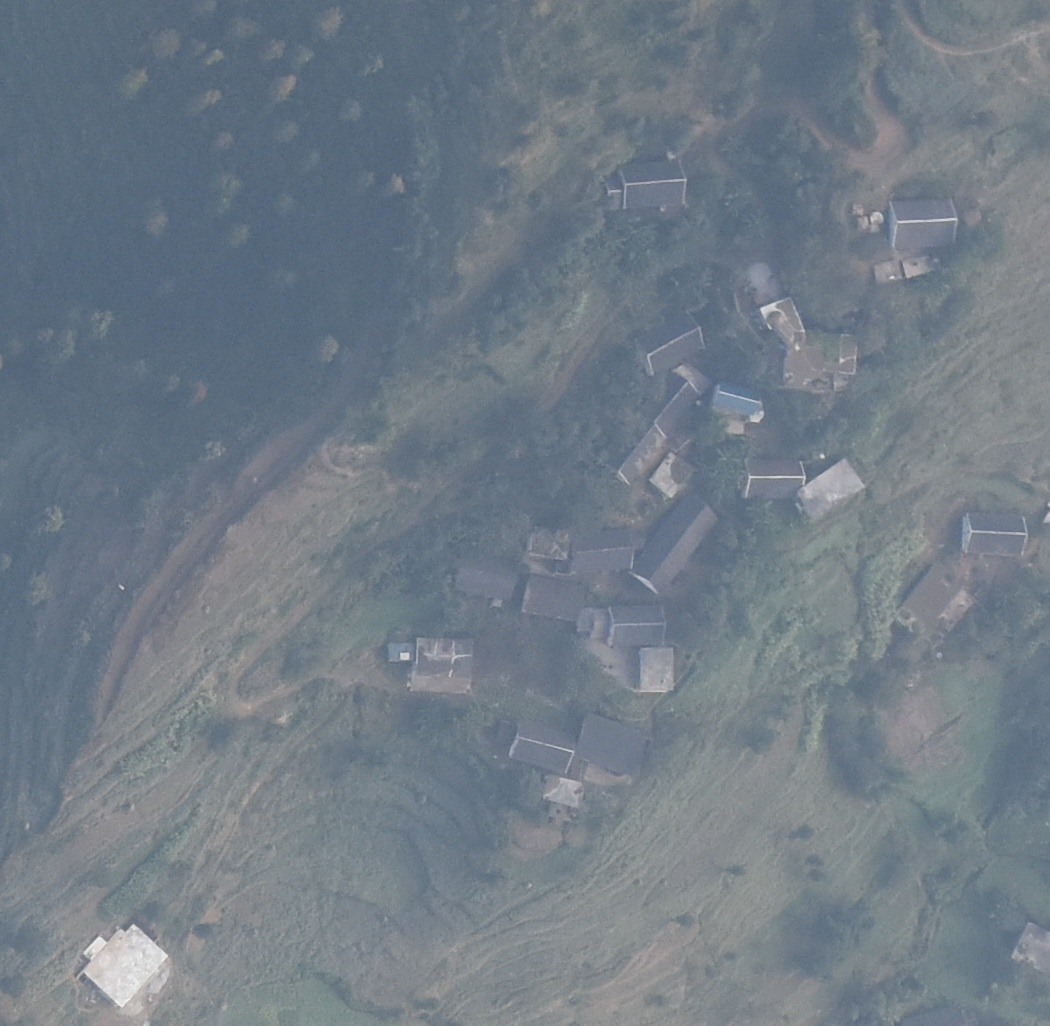building: (761, 298, 859, 387), (634, 493, 716, 594), (80, 923, 170, 1005), (630, 310, 706, 374), (904, 562, 972, 632), (797, 455, 866, 522), (575, 712, 649, 774), (887, 197, 965, 250), (603, 423, 662, 488), (451, 548, 518, 603), (509, 720, 575, 771), (961, 509, 1032, 556), (619, 160, 688, 207), (415, 635, 476, 687), (520, 573, 584, 621), (570, 526, 634, 572), (648, 379, 695, 434), (743, 457, 805, 498), (607, 604, 668, 645), (652, 452, 696, 499), (712, 381, 765, 416), (638, 646, 676, 691), (543, 773, 583, 807), (868, 258, 903, 285), (904, 255, 937, 278), (384, 642, 417, 664), (602, 179, 622, 205)
well: (869, 210, 884, 226)
